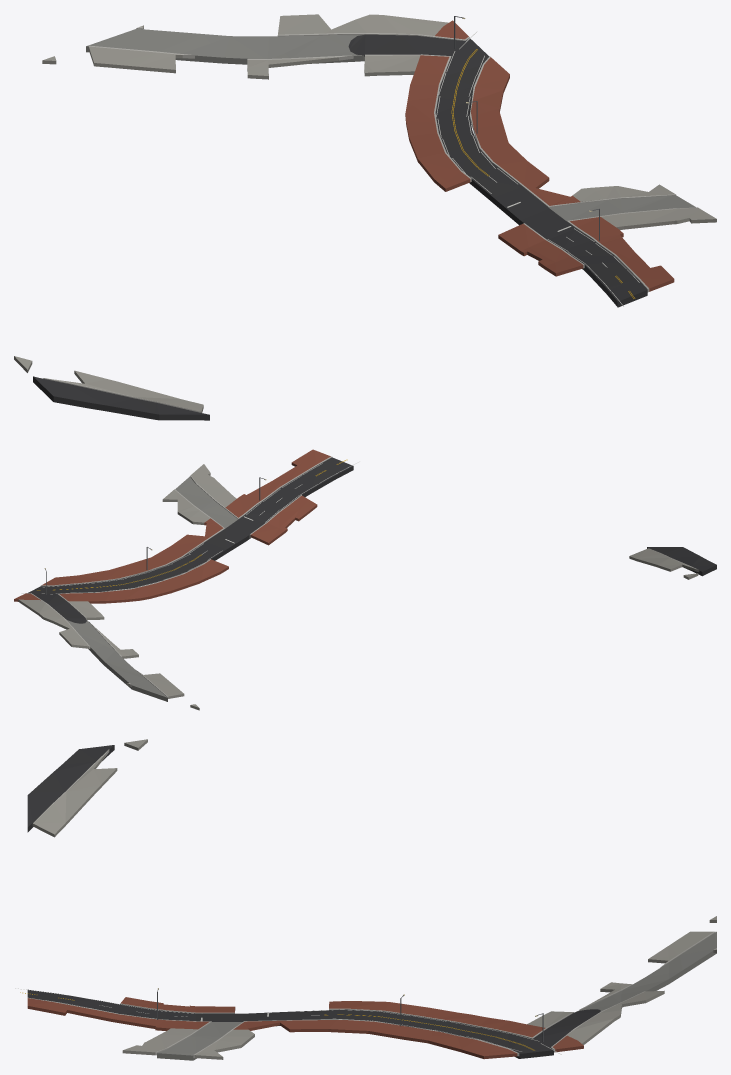
3 renders of one model, top to bottom at view 1: azimuth 30°, elevation 25°; view 2: azimuth 150°, elevation 25°; view 3: azimuth 270°, elevation 25°, orthographic. The views are drawn at different scales.
Size of the model in its own units: 149 by 12.37 by 149.
